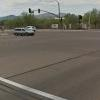Car: (12, 24, 37, 36)
